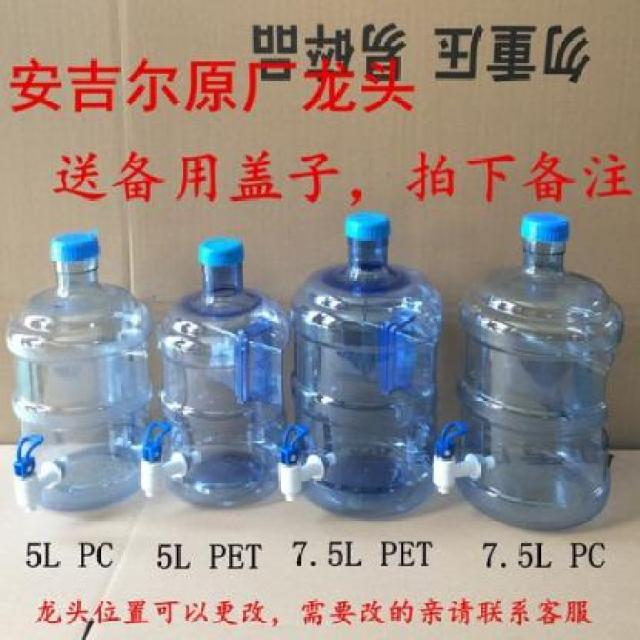coolerbottle: (454, 208, 625, 537), (284, 208, 444, 520), (2, 226, 153, 511), (158, 242, 288, 516)
